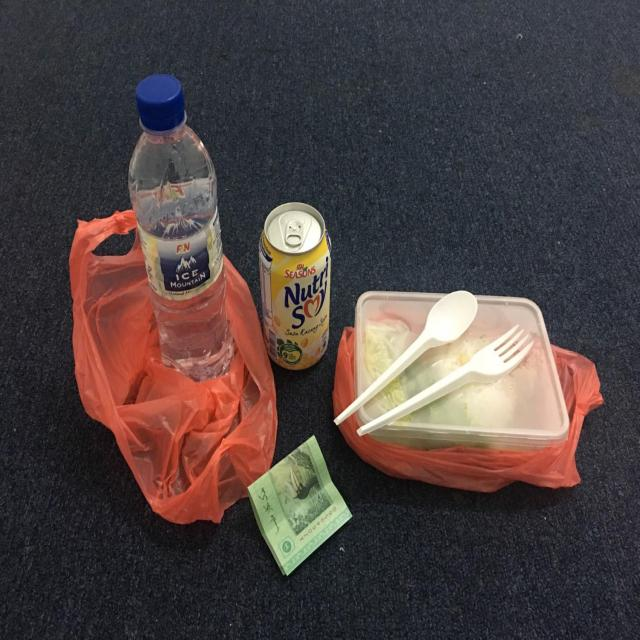bottle: (120, 64, 238, 389)
